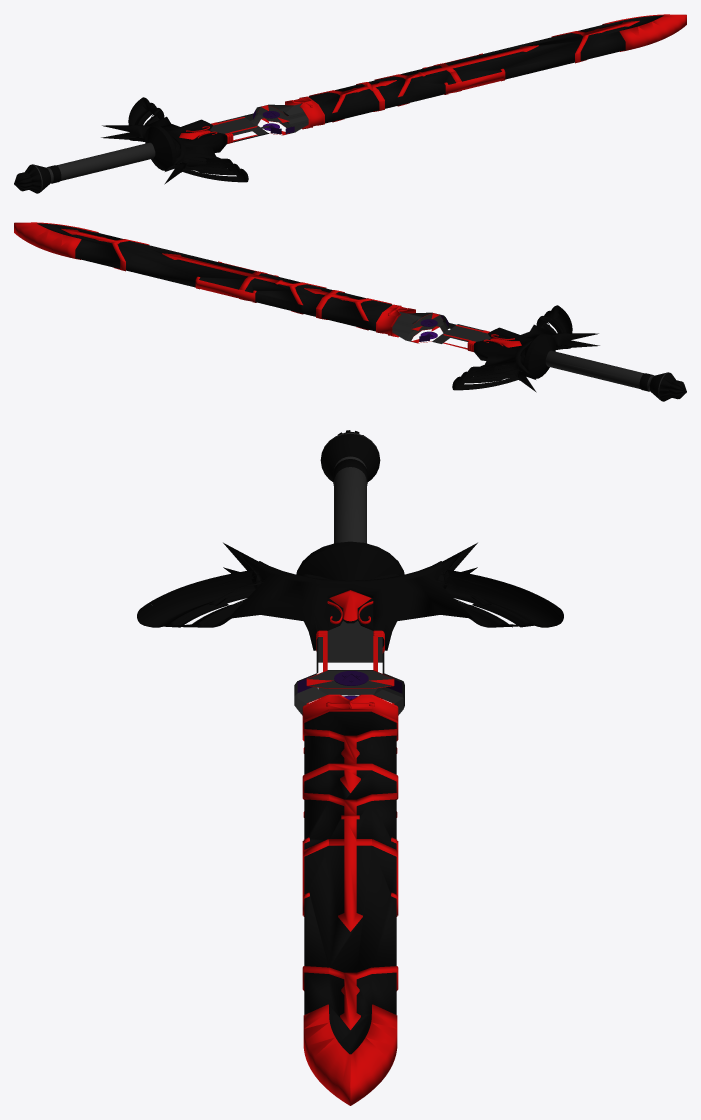
Rendered from DarkBlade.fbx.
3 views of the same model, one above another, from view 1: azimuth 30°, elevation 25°; view 2: azimuth 150°, elevation 25°; view 3: azimuth 270°, elevation 25° (orthographic). The views are drawn at different scales.
Parts seen in each view (by area): view 1: Group8, Group14, Group9, Group1, Group12, Group2, Group7, Group13; view 2: Group8, Group14, Group9, Group1, Group13, Group2, Group7, Group12; view 3: Group8, Group14, Group9, Group12, Group13, Group7, Group1, Group2.
Boxes of the visible parts, left/top/right/bottom form: Group8: left=285, top=14, right=686, bottom=129; Group14: left=101, top=116, right=227, bottom=184; Group9: left=208, top=103, right=308, bottom=143; Group1: left=57, top=142, right=155, bottom=180; Group12: left=181, top=157, right=248, bottom=182; Group2: left=14, top=164, right=61, bottom=193; Group7: left=145, top=125, right=176, bottom=170; Group13: left=128, top=97, right=164, bottom=125; Group8: left=14, top=222, right=415, bottom=337; Group14: left=473, top=324, right=599, bottom=392; Group9: left=392, top=311, right=492, bottom=351; Group1: left=545, top=350, right=643, bottom=388; Group13: left=452, top=365, right=519, bottom=390; Group2: left=639, top=372, right=686, bottom=401; Group7: left=524, top=333, right=555, bottom=378; Group12: left=536, top=305, right=572, bottom=333; Group8: left=302, top=694, right=398, bottom=1105; Group14: left=223, top=542, right=477, bottom=650; Group9: left=294, top=620, right=404, bottom=715; Group12: left=137, top=569, right=264, bottom=627; Group13: left=436, top=569, right=563, bottom=627; Group7: left=296, top=541, right=404, bottom=580; Group1: left=334, top=467, right=366, bottom=543; Group2: left=320, top=430, right=380, bottom=485.
Bounding box in the file's own units: 62.57 × 3.52 × 17.2.
